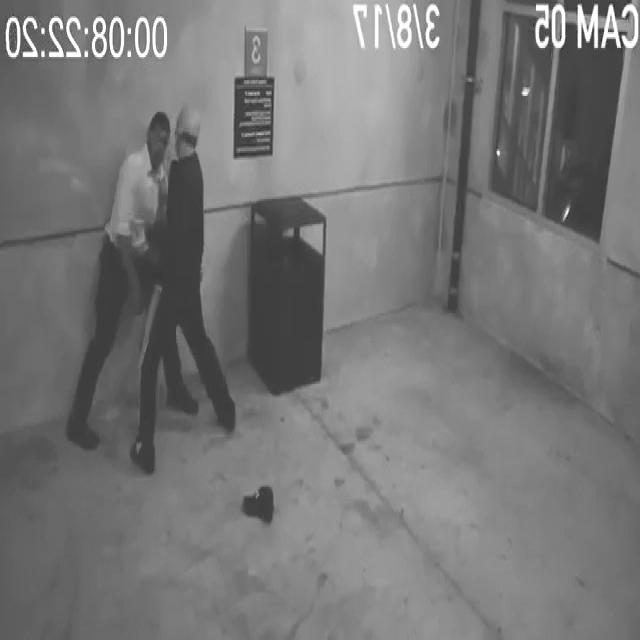fight: (51, 60, 242, 499)
